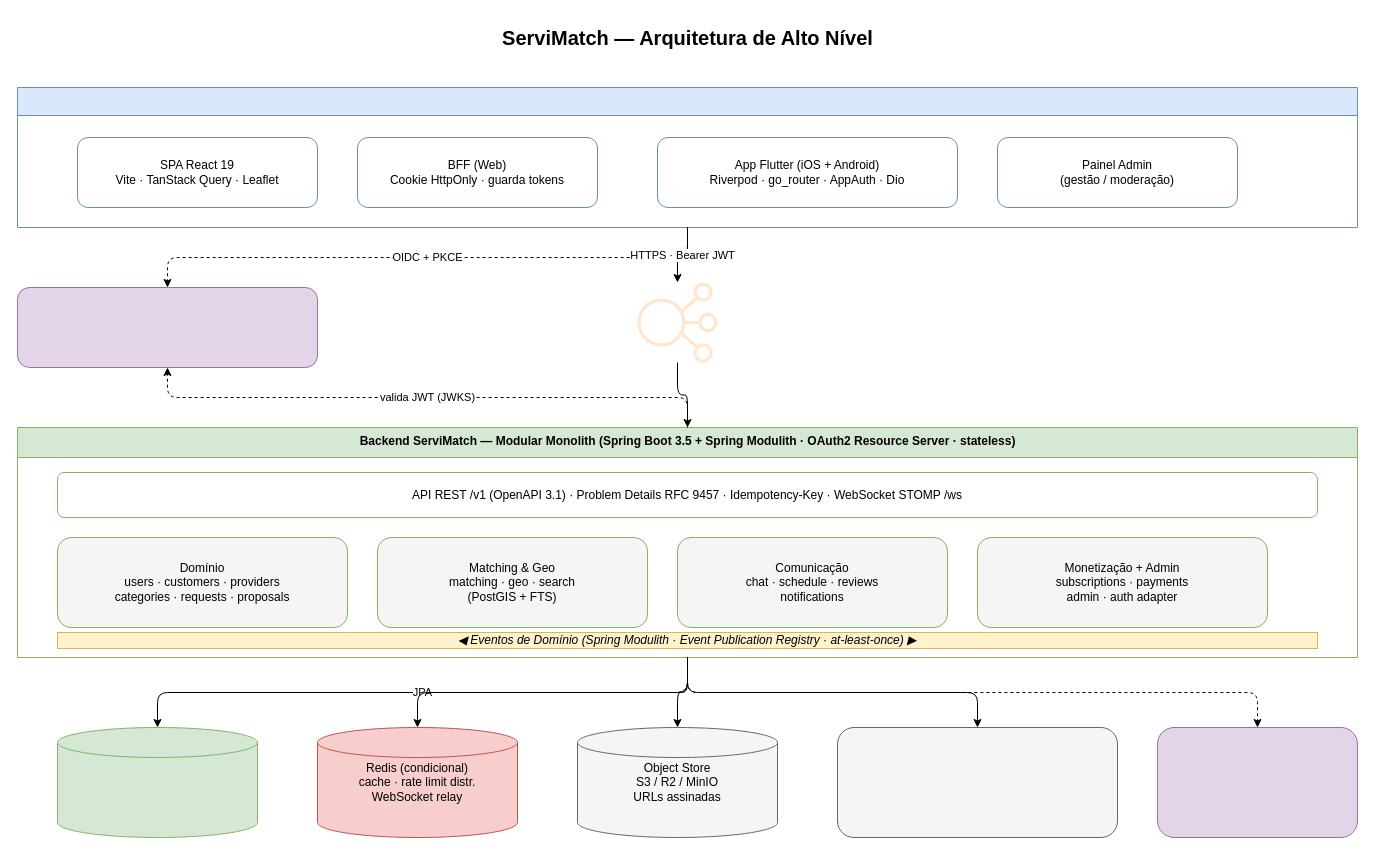
Some shapes in this 1375 by 855 pixel diagram are drawn without their labels. The box of each missing label's shape, as (x1, y1, x2, y2) in pixels:
Camada de Clientes: (16, 86, 1358, 228)
Keycloak (IdP) OAuth2 / OIDC · MFA · JWKS · roles: (16, 286, 318, 368)
Load Balancer / TLS HSTS · CSP · rate limiting (Bucket4j): (636, 282, 718, 362)
Observabilidade Micrometer/Prometheus OpenTelemetry · Actuator: (1156, 726, 1358, 838)
PostgreSQL + PostGIS (GiST · GIN/FTS · pg_trgm) Flyway migrations: (56, 726, 258, 838)
Serviços Externos Stripe/Eupago/IfthenPay · FCM/APNs SMTP · Nominatim/OSM: (836, 726, 1118, 838)
